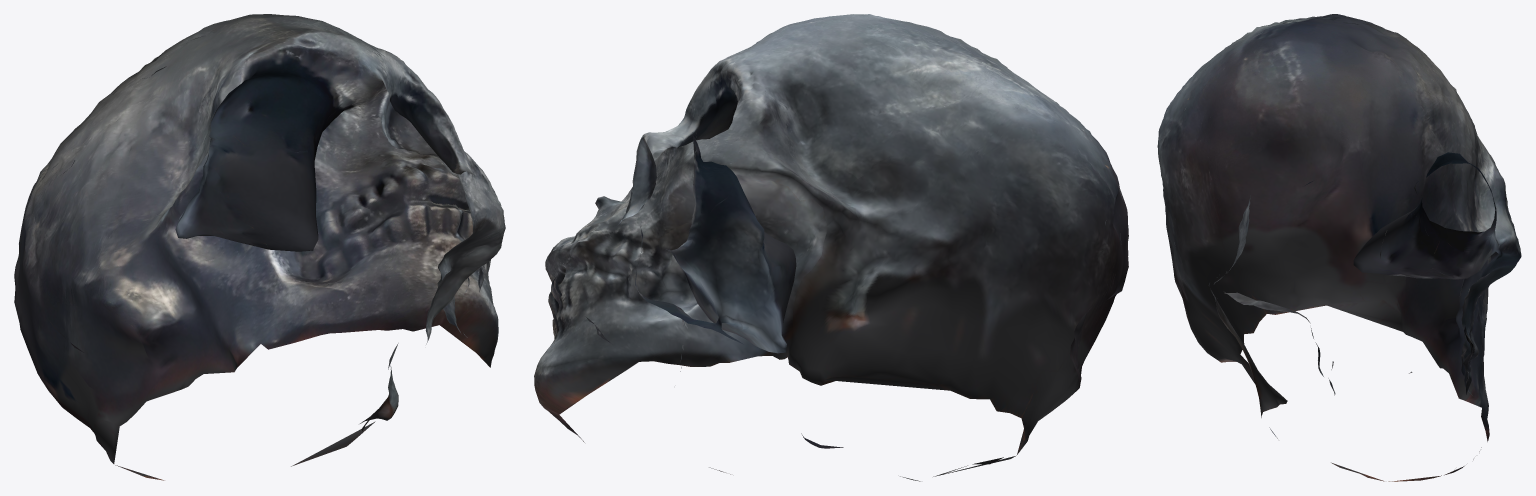
File: skull.glb
The picture shows the model from 3 angles, left to right: view 1: azimuth 30°, elevation 25°; view 2: azimuth 150°, elevation 25°; view 3: azimuth 270°, elevation 25°; orthographic projection. The views are drawn at different scales.
Parts seen in each view (by area): view 1: SkullSize; view 2: SkullSize; view 3: SkullSize.
Part boxes in pixels (<box>): SkullSize: <box>14,14,505,480</box>; SkullSize: <box>534,14,1128,481</box>; SkullSize: <box>1157,14,1521,481</box>.
Bounding box in the file's own units: 0.2049 × 0.1567 × 0.1467.
1 material, 1 textured.
